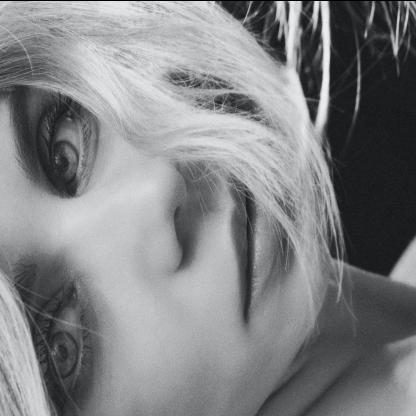Eye: (37, 277, 88, 415), (37, 93, 95, 194)
Mouth: (228, 173, 278, 326)
Nose: (78, 159, 186, 269)
